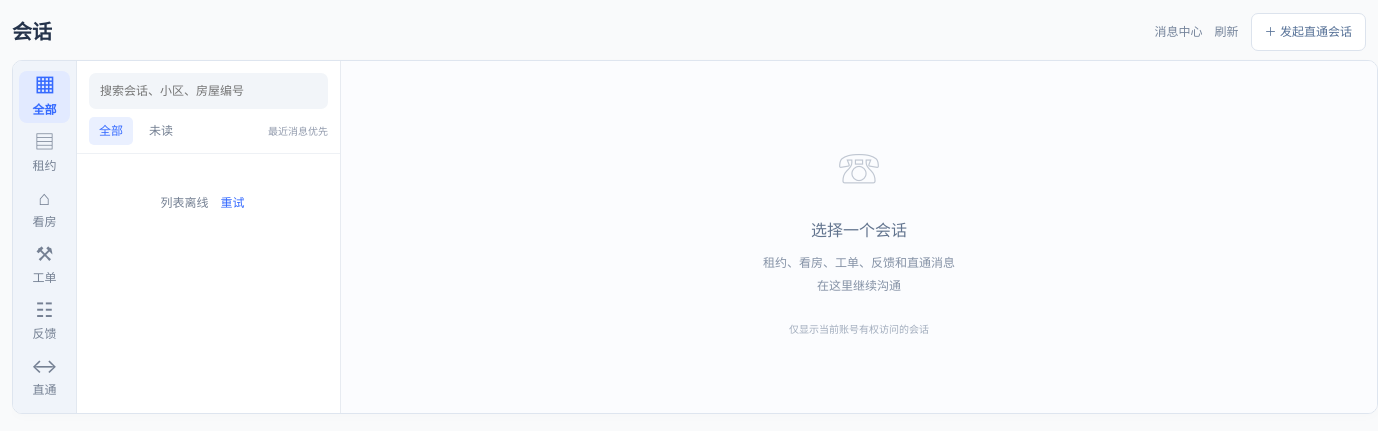
Scenario: 三段工作区的真实入口与服务端列表 › 失败显示可重试，重试成功后有会话
Click the button "重试".
click(232, 203)  # box [208,180,256,226]
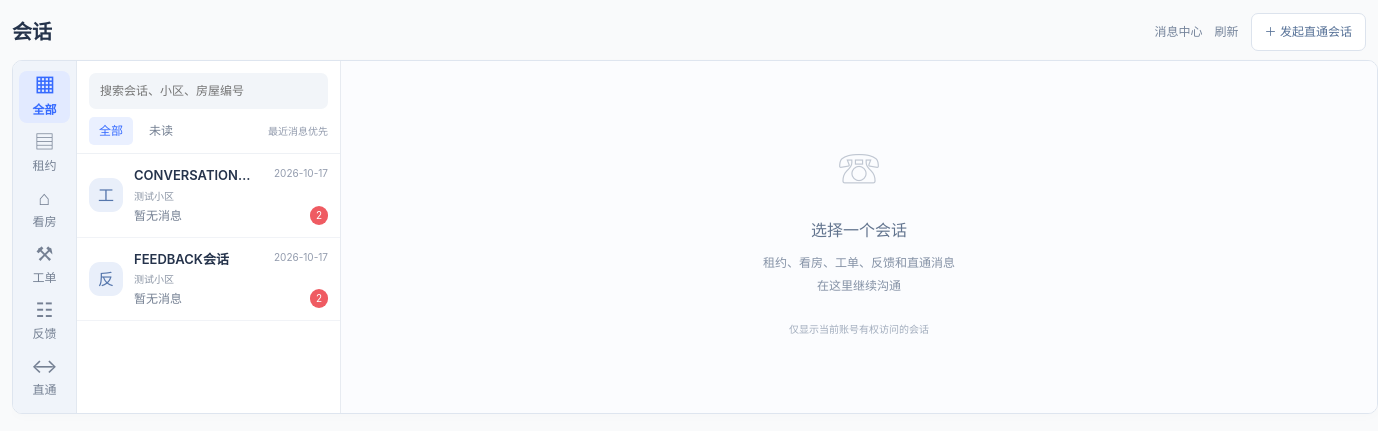
Expected: the number of buttons with class "inbox-row" is 2, [77,154,340,238]; [77,238,340,321]
